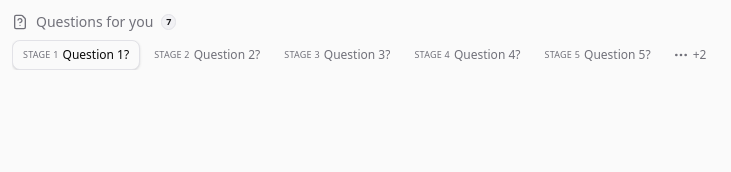
Test: PendingQuestionsTabs — gateContext prefix › renders the context prefix on tabs and overflow items
Expected: the text "Stage 1" is shown, x1=23 y1=49 x2=58 y2=61
Click the button named "more questions" at (690, 55), box x1=665 y1=41 x2=714 y2=69
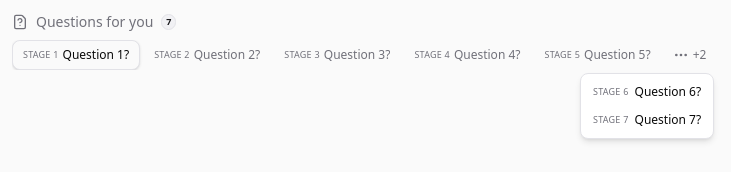
Now the text "Stage 7" is shown, box x1=593 y1=114 x2=628 y2=126
